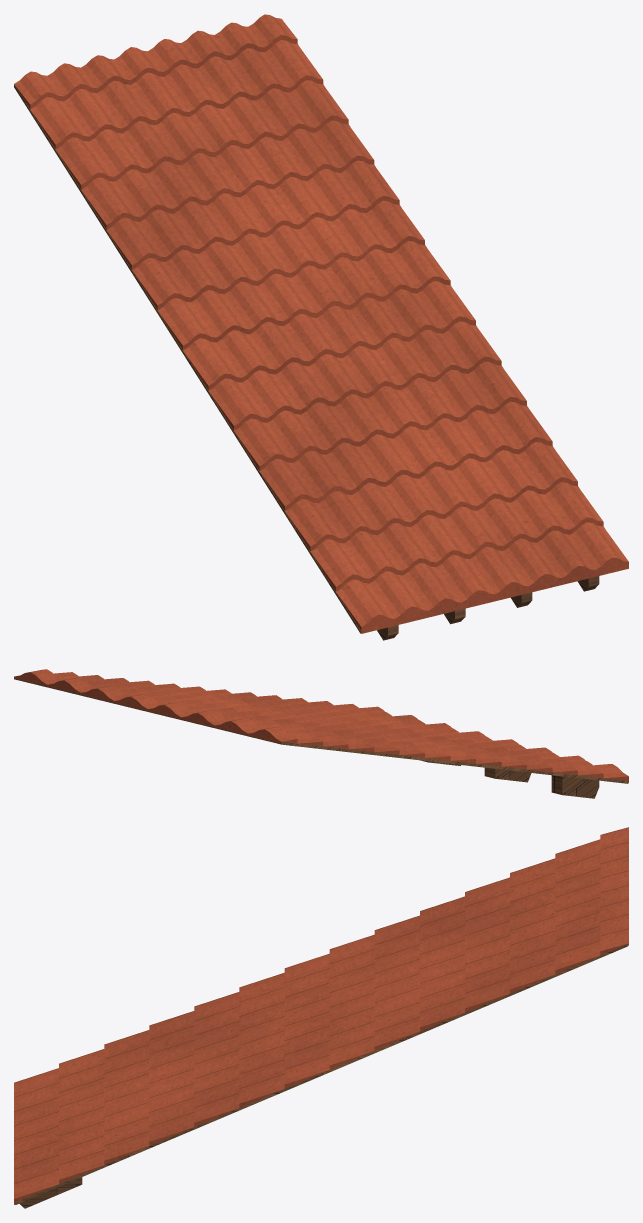
Rendered from m_roof.glb.
The picture shows the model from 3 angles, top to bottom: view 1: azimuth 30°, elevation 25°; view 2: azimuth 150°, elevation 25°; view 3: azimuth 270°, elevation 25°; orthographic projection. The views are drawn at different scales.
Parts seen in each view (by area): view 1: m_roof_tile_clay, m_roof_planks, m_roof_wood; view 2: m_roof_tile_clay, m_roof_planks, m_roof_wood; view 3: m_roof_tile_clay, m_roof_planks.
Boxes of the visible parts, left/top/right/bottom form: m_roof_tile_clay: left=14, top=14, right=628, bottom=633; m_roof_planks: left=14, top=19, right=604, bottom=633; m_roof_wood: left=377, top=576, right=599, bottom=640; m_roof_tile_clay: left=14, top=669, right=628, bottom=782; m_roof_planks: left=14, top=678, right=628, bottom=783; m_roof_wood: left=420, top=760, right=599, bottom=798; m_roof_tile_clay: left=14, top=827, right=628, bottom=1204; m_roof_planks: left=15, top=944, right=628, bottom=1204.
Size of the model in its own units: 2 by 2.3 by 4.5.
Materials: 3 (3 with a texture image).
